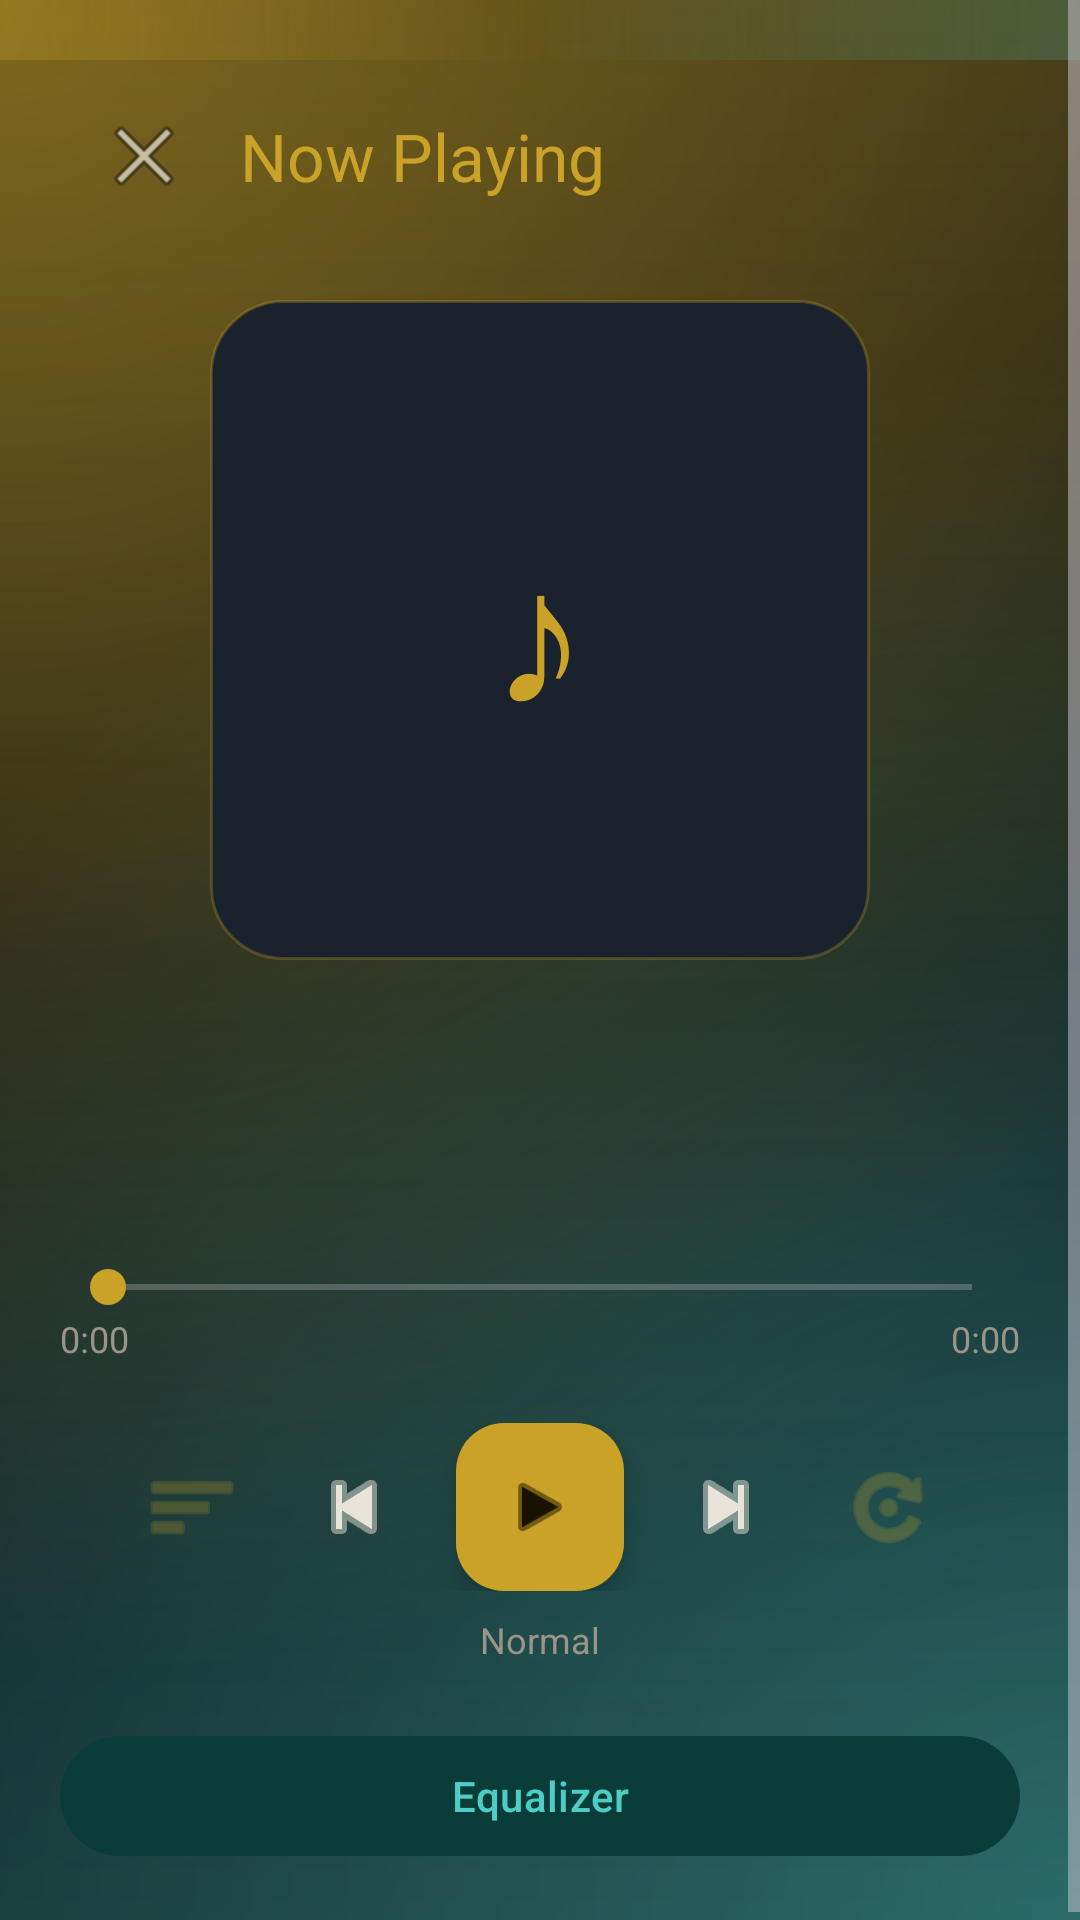

Icon bounding boxes for this 1080px x 1920px phone screenshot, format bbox(x1, y1, x2, y2):
Next: bbox(703, 1480, 749, 1534)
Play: bbox(456, 1423, 624, 1591)
Previous: bbox(331, 1480, 377, 1534)
Repeat: bbox(853, 1472, 923, 1543)
